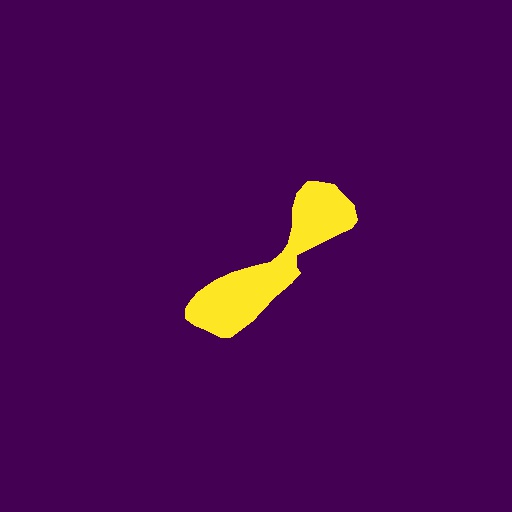Gliomia_tumour: (185, 181, 358, 338)
